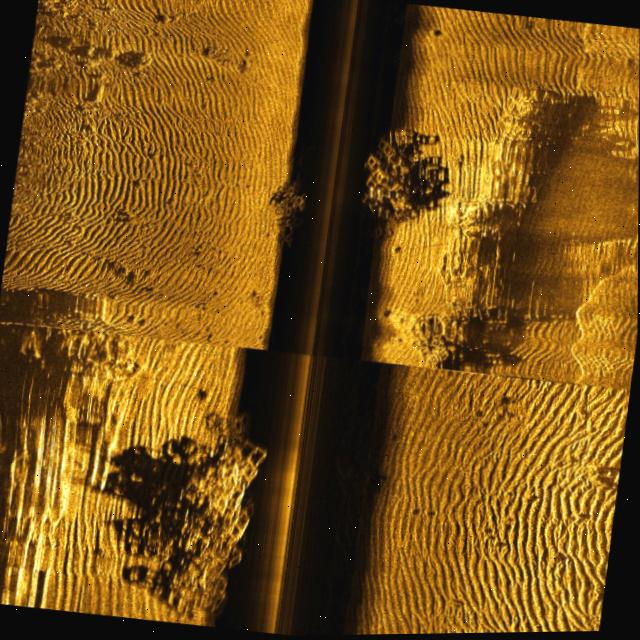artificial reef: (107, 406, 280, 631), (352, 109, 448, 262), (254, 130, 334, 250)
